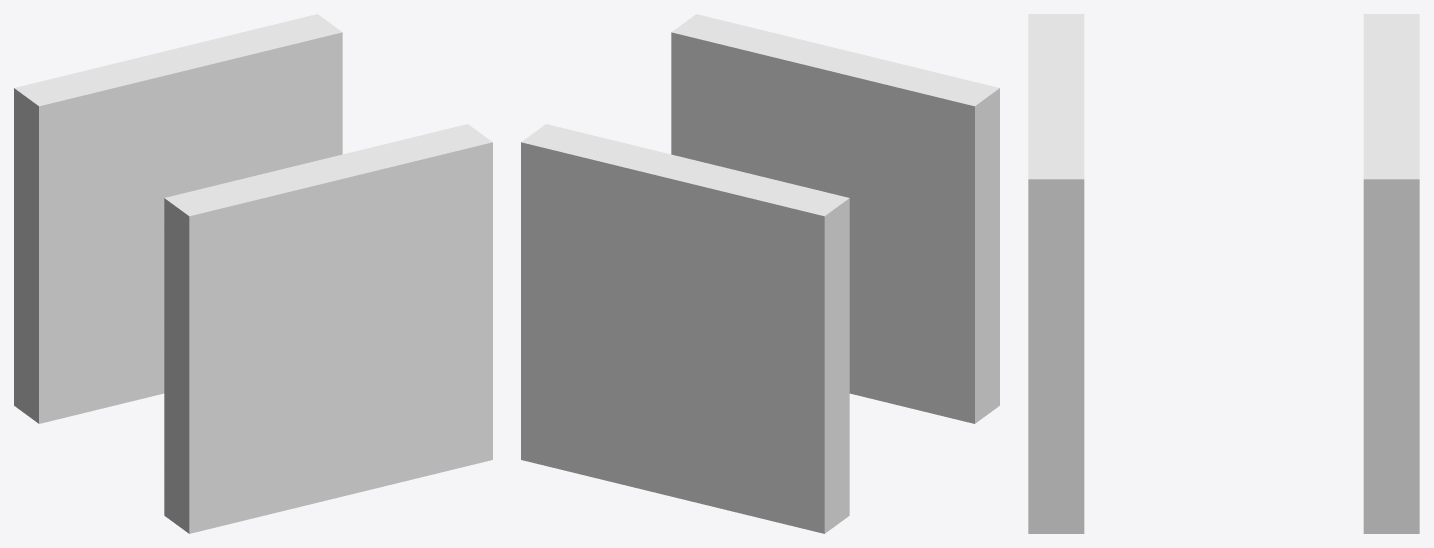
The model's file is PasajeEste.obj.
3 views of the same model, side by side, from view 1: azimuth 30°, elevation 25°; view 2: azimuth 150°, elevation 25°; view 3: azimuth 270°, elevation 25° (orthographic). The views are drawn at different scales.
Visible parts, largest first — view 1: PasajeEste_Cube.003; view 2: PasajeEste_Cube.003; view 3: PasajeEste_Cube.003.
Part boxes in pixels (x1,y1,x2,y2): PasajeEste_Cube.003: (14, 14, 492, 533); PasajeEste_Cube.003: (521, 14, 999, 533); PasajeEste_Cube.003: (1028, 14, 1419, 533).
Size of the model in its own units: 2 by 2 by 2.
Materials: 1 (1 with a texture image).
